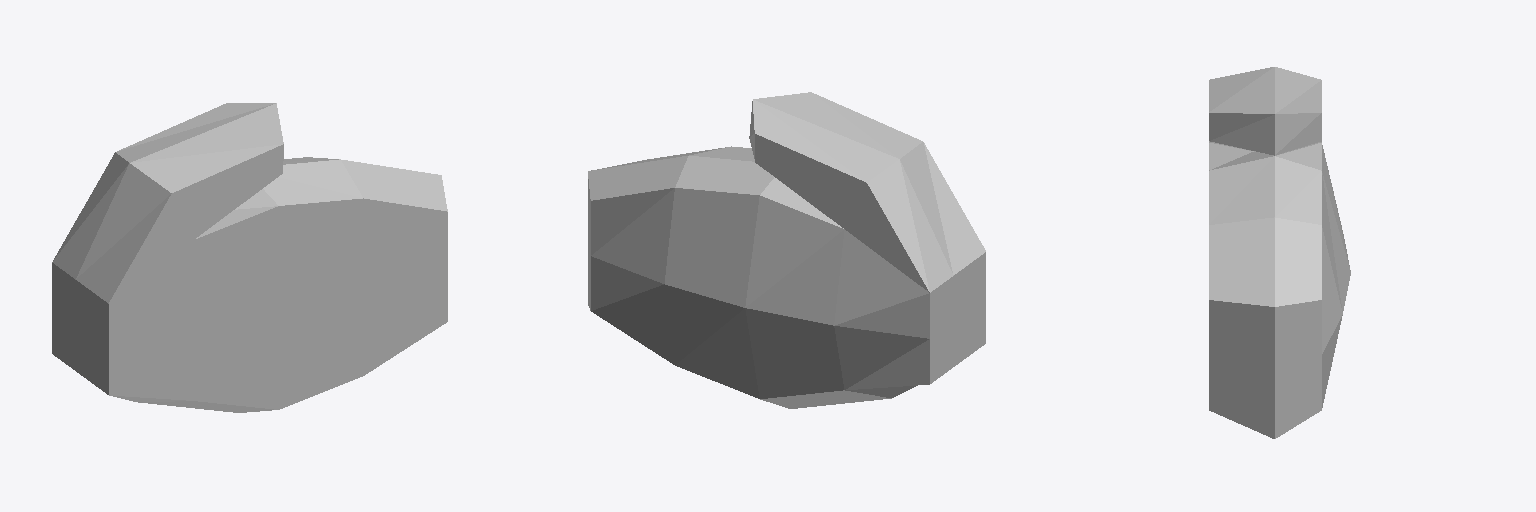
Rendered from KnightHand3.obj.
The picture shows the model from 3 angles: view 1: azimuth 30°, elevation 25°; view 2: azimuth 150°, elevation 25°; view 3: azimuth 270°, elevation 25°; orthographic projection.
Parts seen in each view (by area): view 1: Cube.014; view 2: Cube.014; view 3: Cube.014.
Part boxes in pixels (left/top/right/bottom): Cube.014: left=52, top=103, right=447, bottom=412; Cube.014: left=588, top=92, right=985, bottom=408; Cube.014: left=1209, top=67, right=1350, bottom=438.
Bounding box in the file's own units: 0.8529 × 0.6698 × 0.2871.